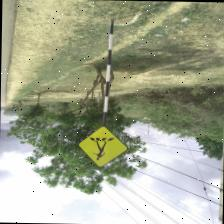yellowboard: (78, 125, 129, 168)
